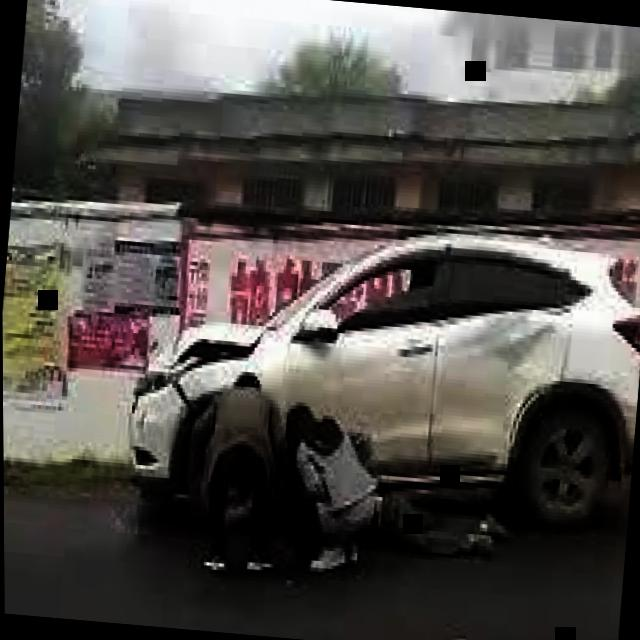Fall-Detected: (340, 461, 523, 574)
